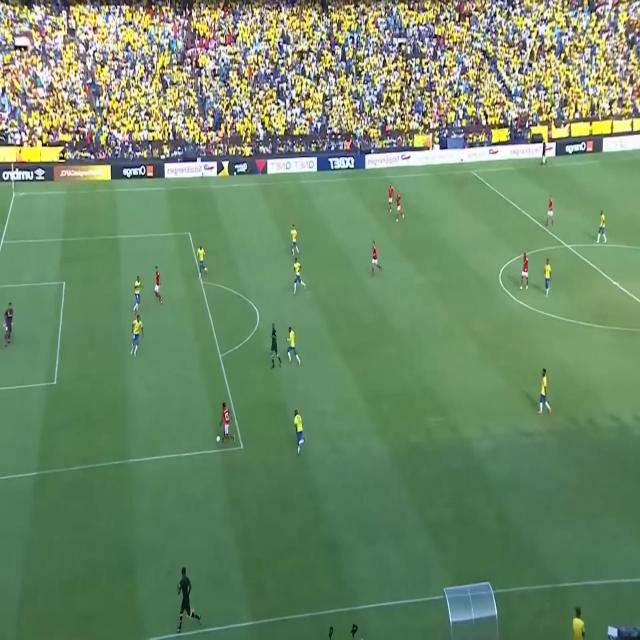Ball: (215, 432, 221, 444)
Keeper: (1, 300, 14, 348)
Player: (534, 366, 552, 417), (128, 316, 145, 358), (218, 403, 235, 443), (286, 326, 302, 366), (293, 410, 307, 454), (368, 239, 383, 278), (517, 251, 529, 292), (292, 257, 305, 294), (152, 264, 164, 304), (195, 246, 208, 280), (132, 276, 143, 314), (596, 210, 607, 244), (544, 194, 554, 229), (542, 258, 551, 296), (289, 224, 299, 256), (396, 190, 404, 223), (387, 182, 395, 212)
Ref: (170, 563, 198, 633), (269, 318, 282, 372), (540, 135, 548, 164)
